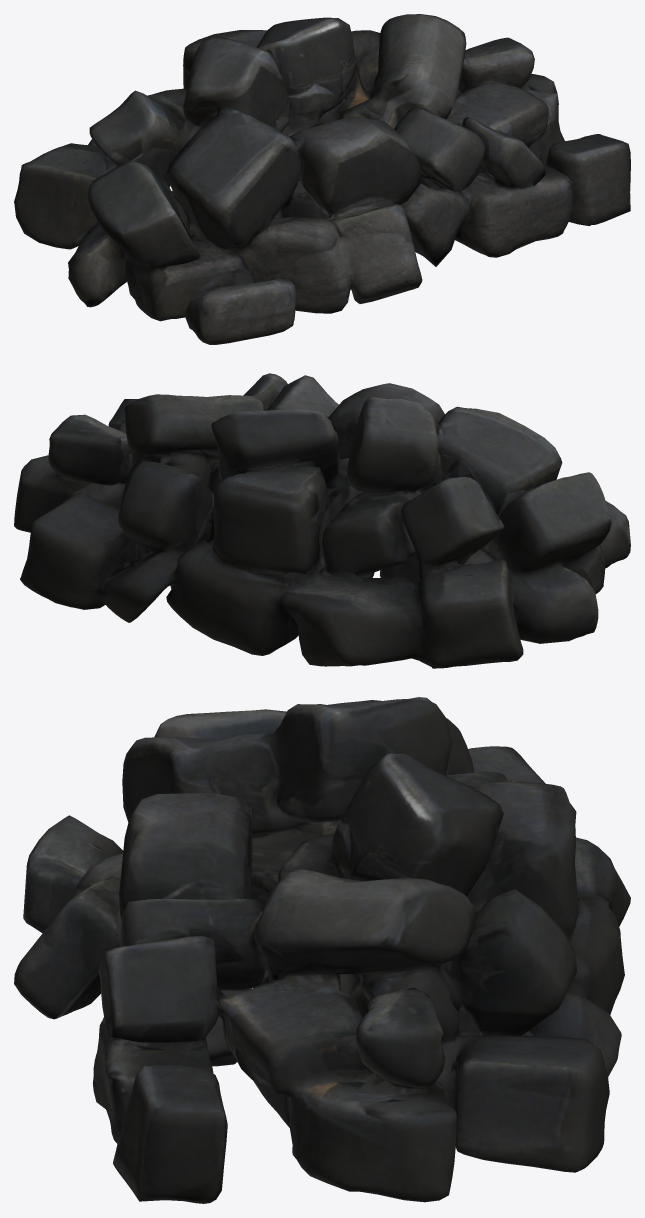
Rendered from generate_a_barricade__0206122419_texture.obj.
3 views of the same model, one above another, from view 1: azimuth 30°, elevation 25°; view 2: azimuth 150°, elevation 25°; view 3: azimuth 270°, elevation 25° (orthographic). The views are drawn at different scales.
Visible parts, largest first — view 1: generate_a_barricade__0206122419_texture; view 2: generate_a_barricade__0206122419_texture; view 3: generate_a_barricade__0206122419_texture.
Boxes of the visible parts, box(x1,y1,x2,y2) form: generate_a_barricade__0206122419_texture: box(14, 14, 630, 344); generate_a_barricade__0206122419_texture: box(14, 373, 630, 668); generate_a_barricade__0206122419_texture: box(14, 697, 630, 1203).
Size of the model in its own units: 1.98 by 0.7313 by 1.37.
1 material, 1 textured.
